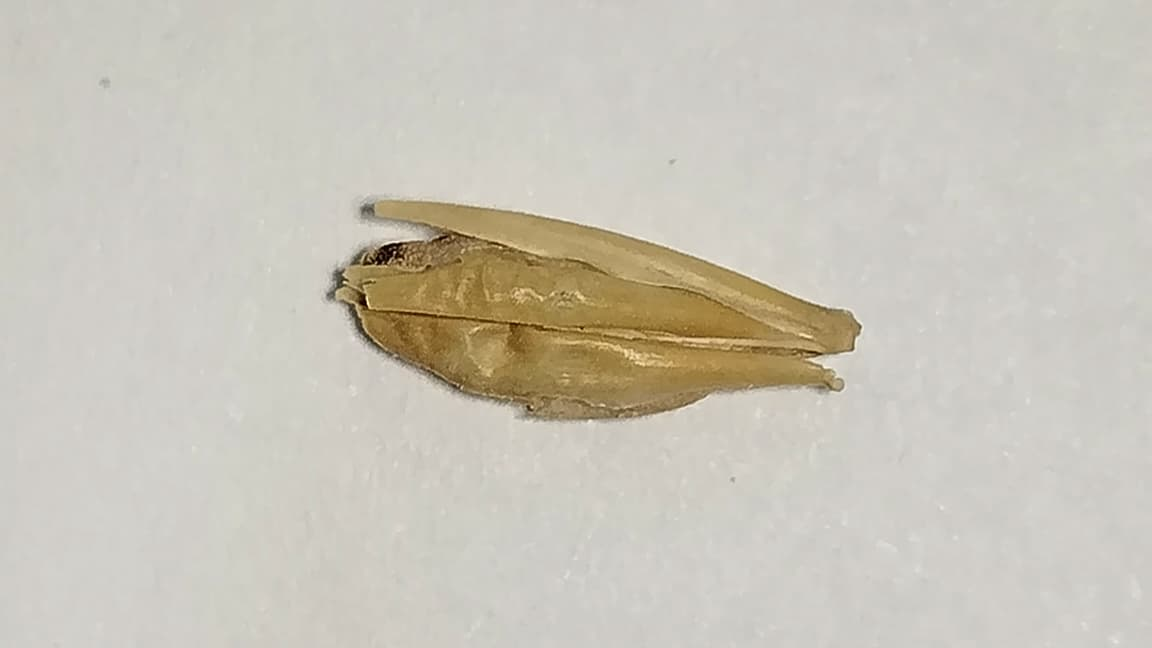healthy-50-40: (348, 200, 859, 416)
shriveledseed: (441, 276, 592, 312), (463, 322, 516, 377)
staindamage: (361, 231, 458, 273)
